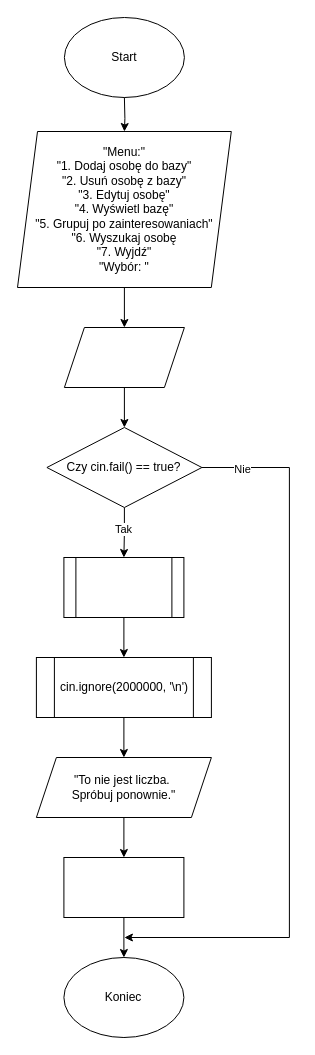
The diagram is 315 pixels wide and 1055 high, and some of its shapes have lost their labels. The centre of each missing label's shape, as x and y in pixels:
choice: [123,357]
choice = 0: [123,887]
cin.clear(): [123,587]
